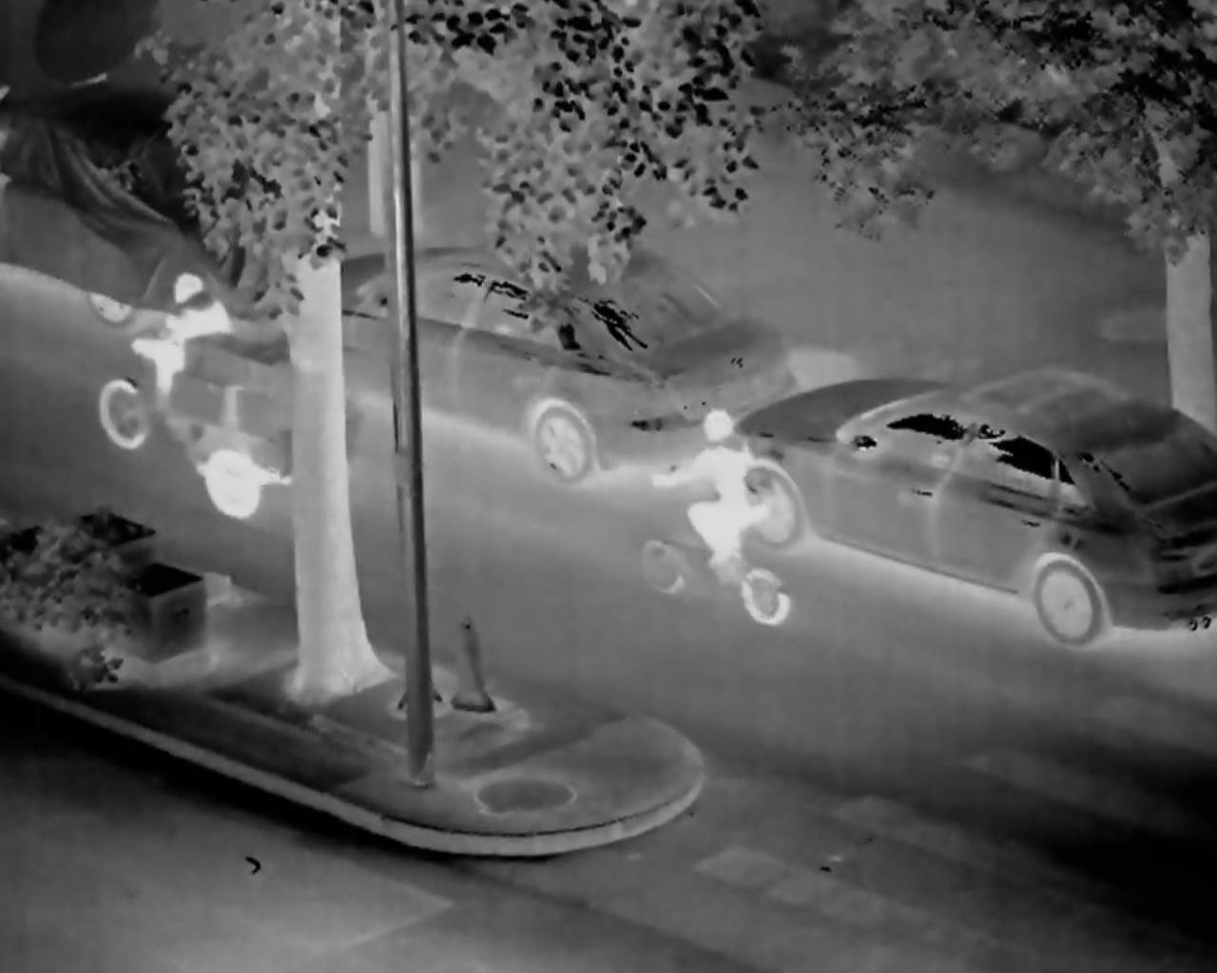person: (641, 401, 771, 613), (126, 261, 242, 403)
